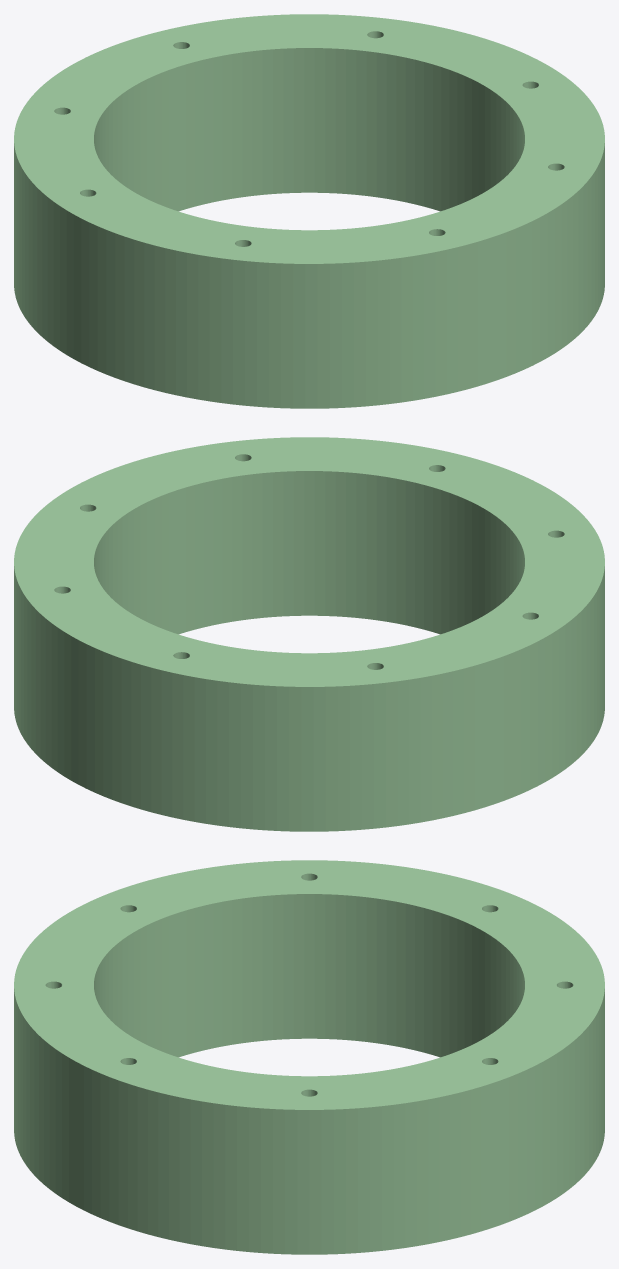
The model's file is top_lift.dae.
3 views of the same model, one above another, from view 1: azimuth 30°, elevation 25°; view 2: azimuth 150°, elevation 25°; view 3: azimuth 270°, elevation 25° (orthographic).
Parts seen in each view (by area): view 1: Untitled; view 2: Untitled; view 3: Untitled.
Part boxes in pixels (box(x1,y1,x2,y2)): Untitled: box(14, 14, 604, 408); Untitled: box(14, 437, 604, 831); Untitled: box(14, 860, 604, 1254).
Size of the model in its own units: 0.185 by 0.185 by 0.05.
